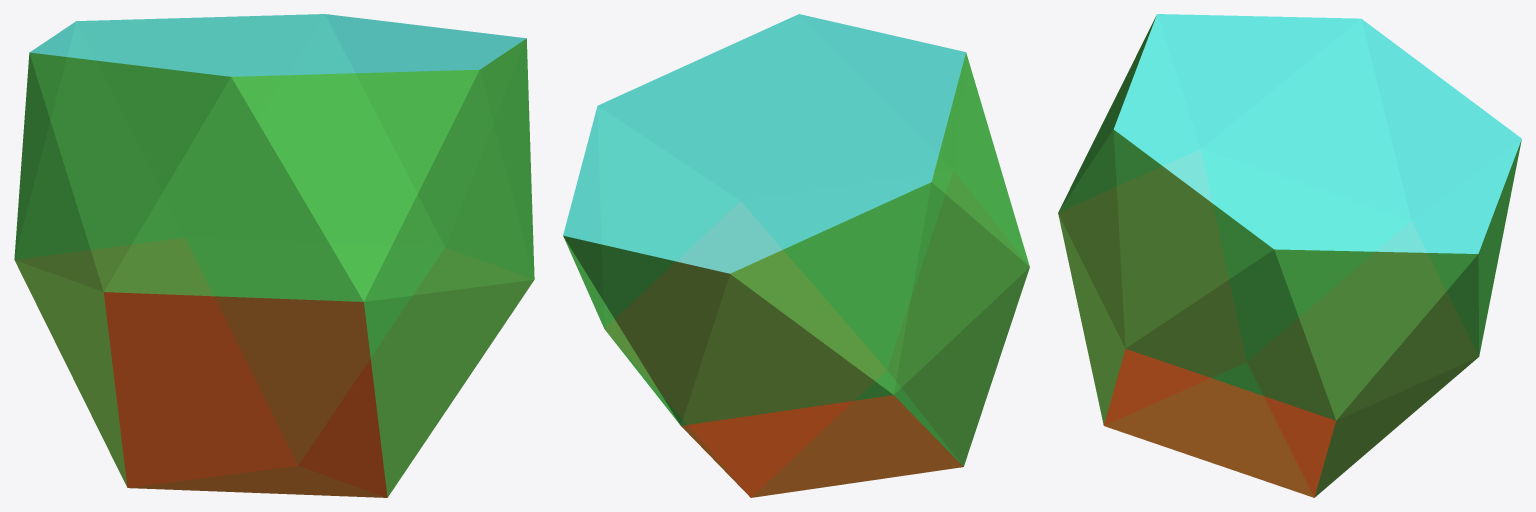
The model's file is j22_gyroelongated_triangular_cupola.obj.
3 views of the same model, side by side, from view 1: azimuth 30°, elevation 25°; view 2: azimuth 150°, elevation 25°; view 3: azimuth 270°, elevation 25° (orthographic). The views are drawn at different scales.
Bounding box in the file's own units: 1.81 × 1.85 × 1.86.
